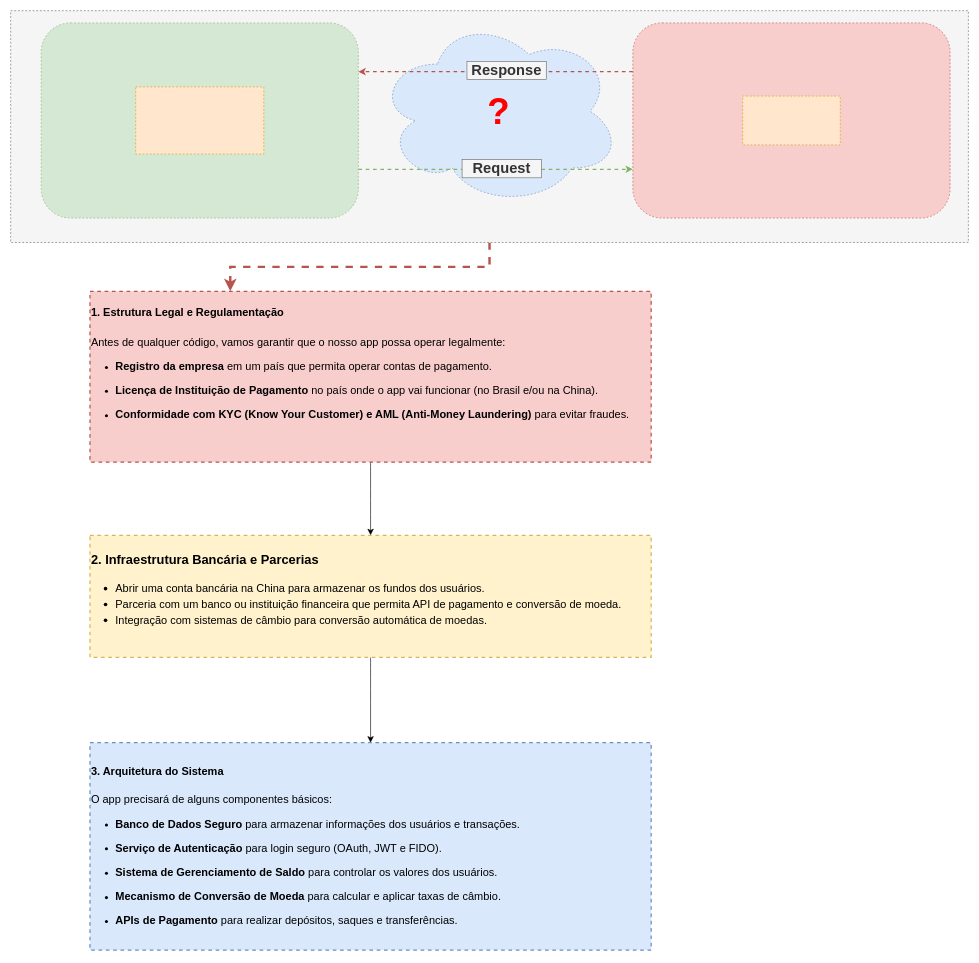
Image size: 979x963. Some labels were removed from this diagram. The shapes that lost their labels are listed below. From the top down, each one's centre as x and y in pixels, then its label:
(x=199, y=120): New Payment Account in BR
(x=791, y=120): Bank in China
